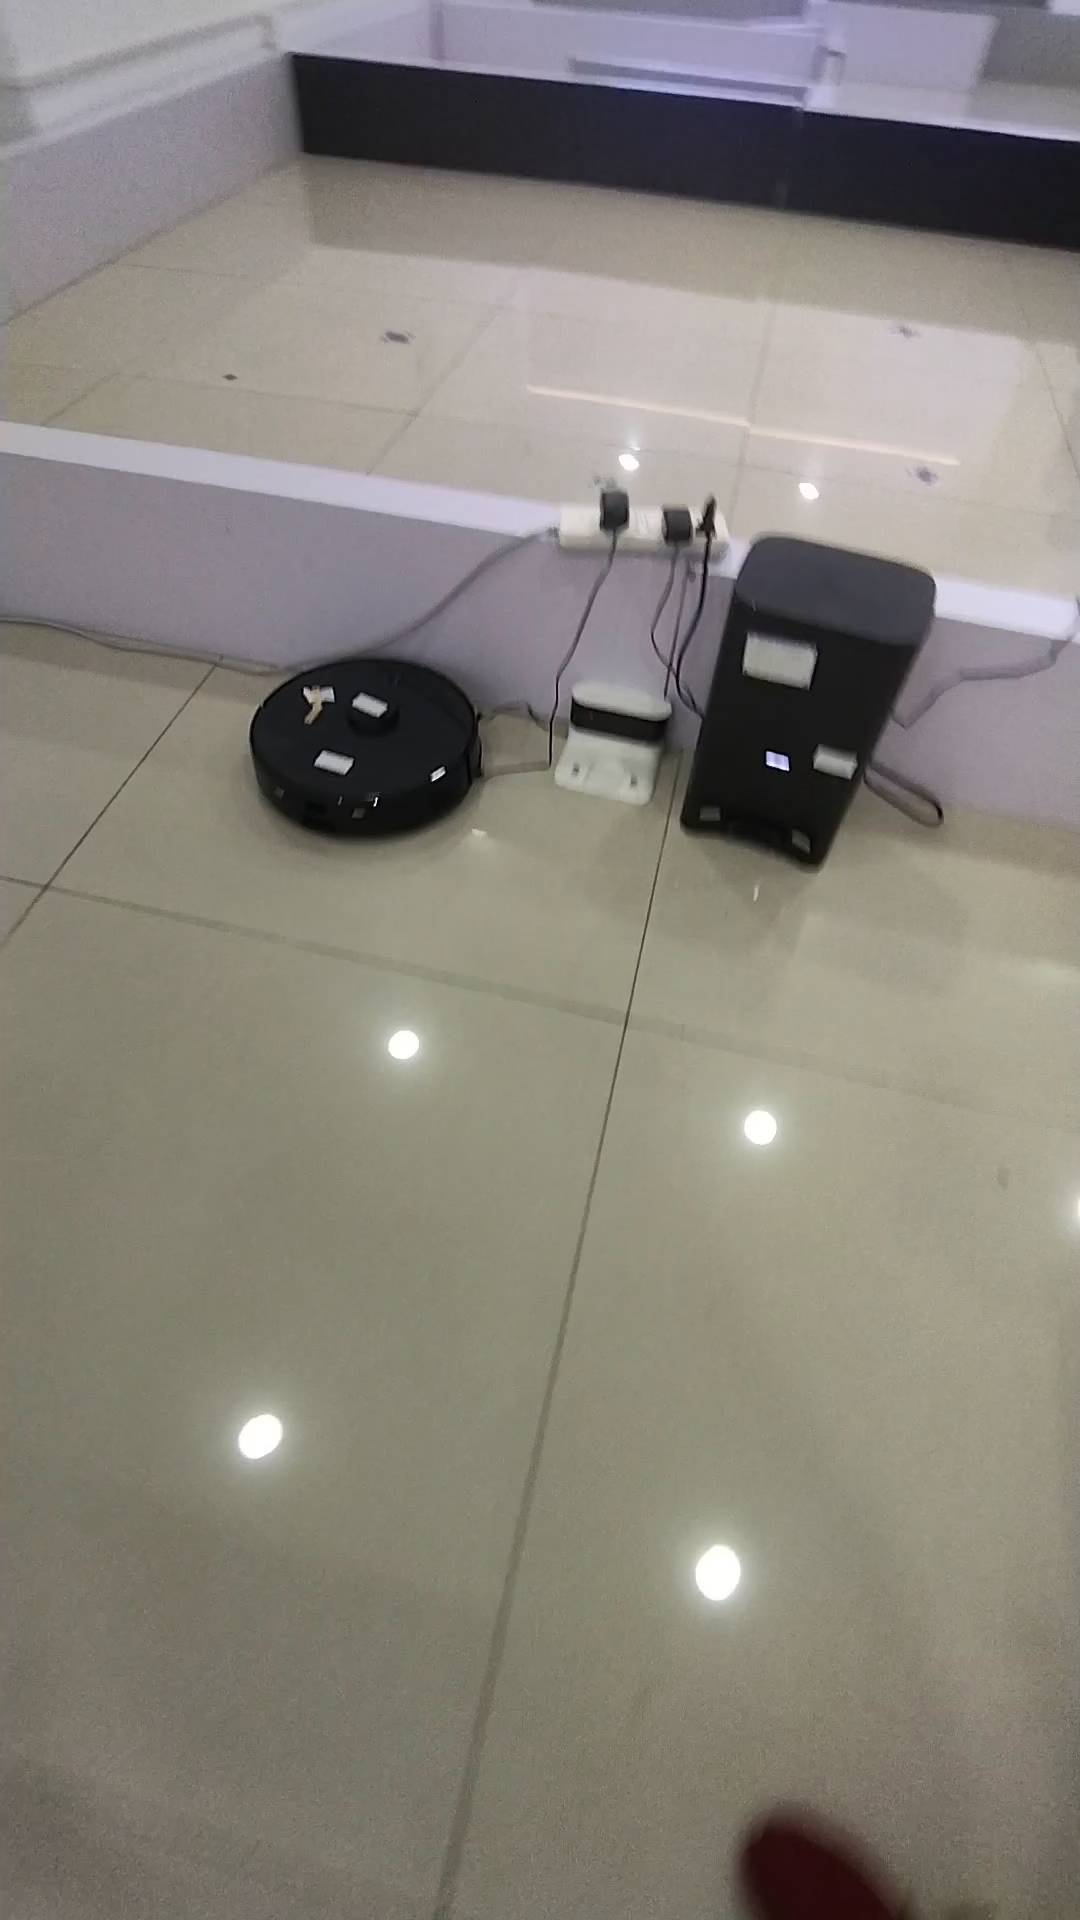dust collecting barrel: (680, 537, 935, 874)
recharge seat: (555, 678, 670, 804)
